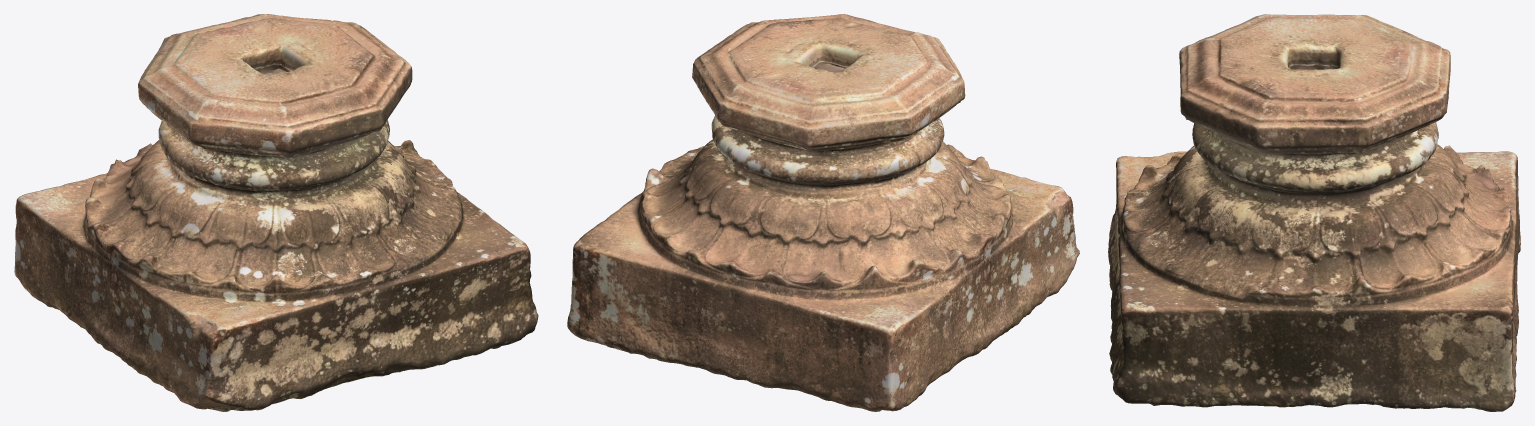
The model's file is 19_MysonSanctuaryB_Detru_final.glb.
3 views of the same model, side by side, from view 1: azimuth 30°, elevation 25°; view 2: azimuth 150°, elevation 25°; view 3: azimuth 270°, elevation 25° (orthographic). The views are drawn at different scales.
Size of the model in its own units: 1.08 by 0.7931 by 1.08.
Materials: 1 (1 with a texture image).
